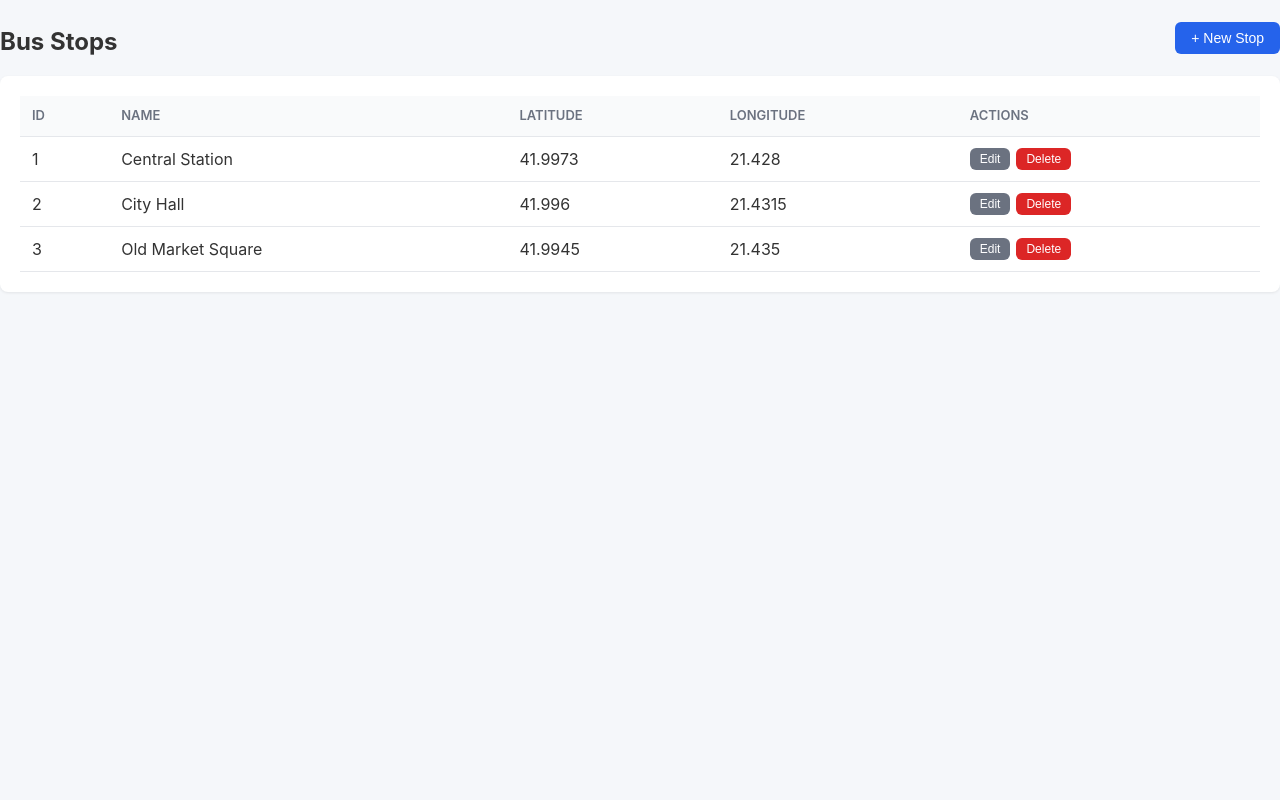
BusStops Page › opens create modal
Click the button "+ New Stop": point(1228, 38) [1175,22,1279,54]
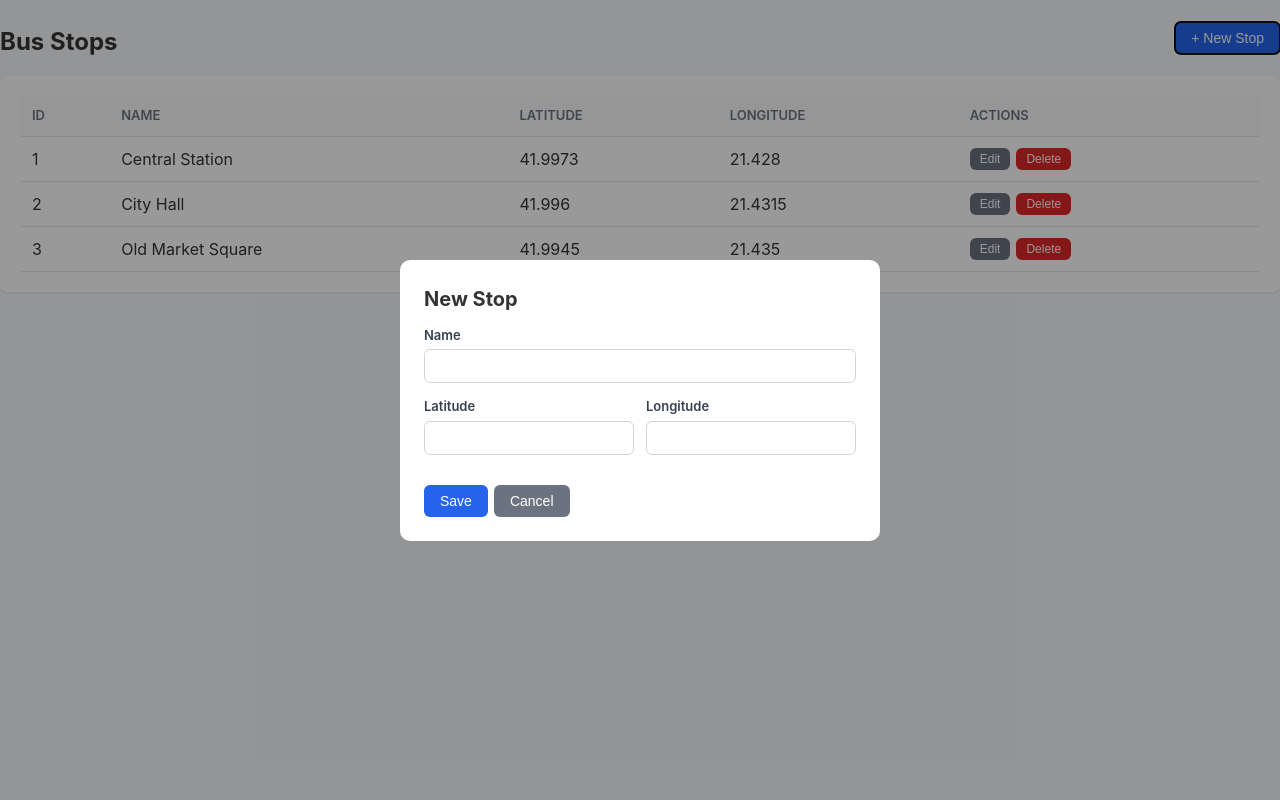
Check: the heading "New Stop" is shown, box [424,286,518,310]
